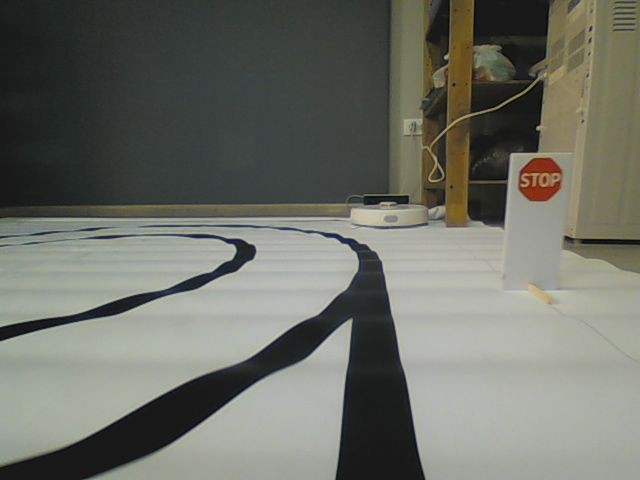Stop: (516, 156, 563, 203)
